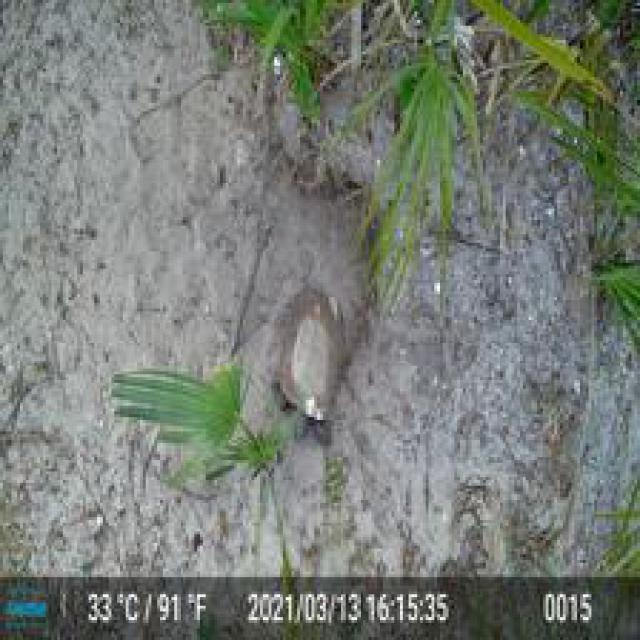tortoise: (280, 286, 337, 443)
